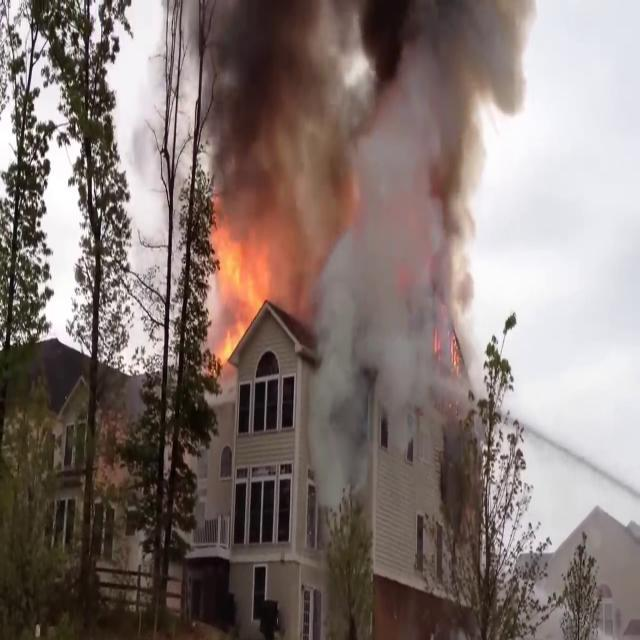Fire: (202, 218, 270, 367)
Smoke: (302, 0, 530, 466), (178, 0, 474, 232)
